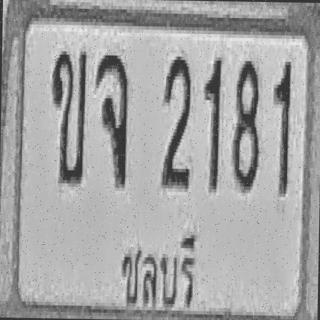A02: (50, 48, 87, 184)
A08: (93, 52, 128, 184)
N01: (271, 58, 291, 194), (202, 54, 222, 189)
N02: (161, 53, 191, 188)
N08: (232, 57, 261, 190)
P13: (116, 222, 198, 318)
